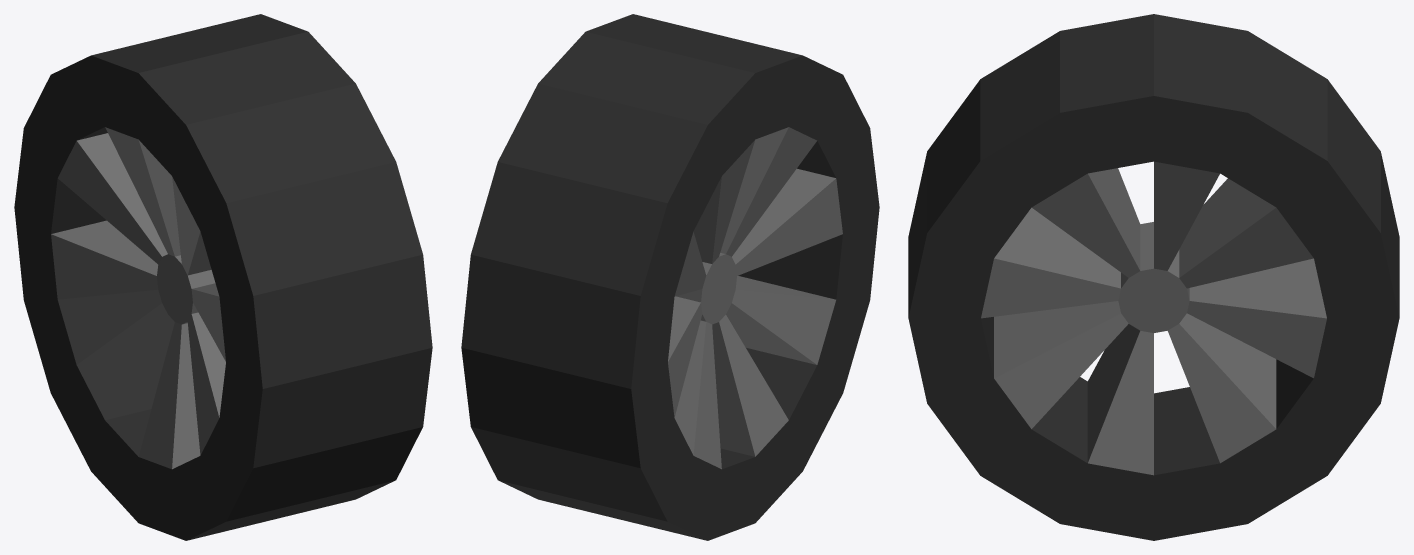
The model's file is wheel.glb.
3 renders of one model, left to right at view 1: azimuth 30°, elevation 25°; view 2: azimuth 150°, elevation 25°; view 3: azimuth 270°, elevation 25°, orthographic.
Visible parts, largest first — view 1: Cylinder.001; view 2: Cylinder.001; view 3: Cylinder.001.
Boxes of the visible parts, x1=… form: Cylinder.001: x1=14, y1=14, x2=432, y2=540; Cylinder.001: x1=461, y1=14, x2=879, y2=540; Cylinder.001: x1=908, y1=14, x2=1399, y2=540.
Bounding box in the file's own units: 1.3 × 3.28 × 3.28.
Materials: 1 (1 with a texture image).
